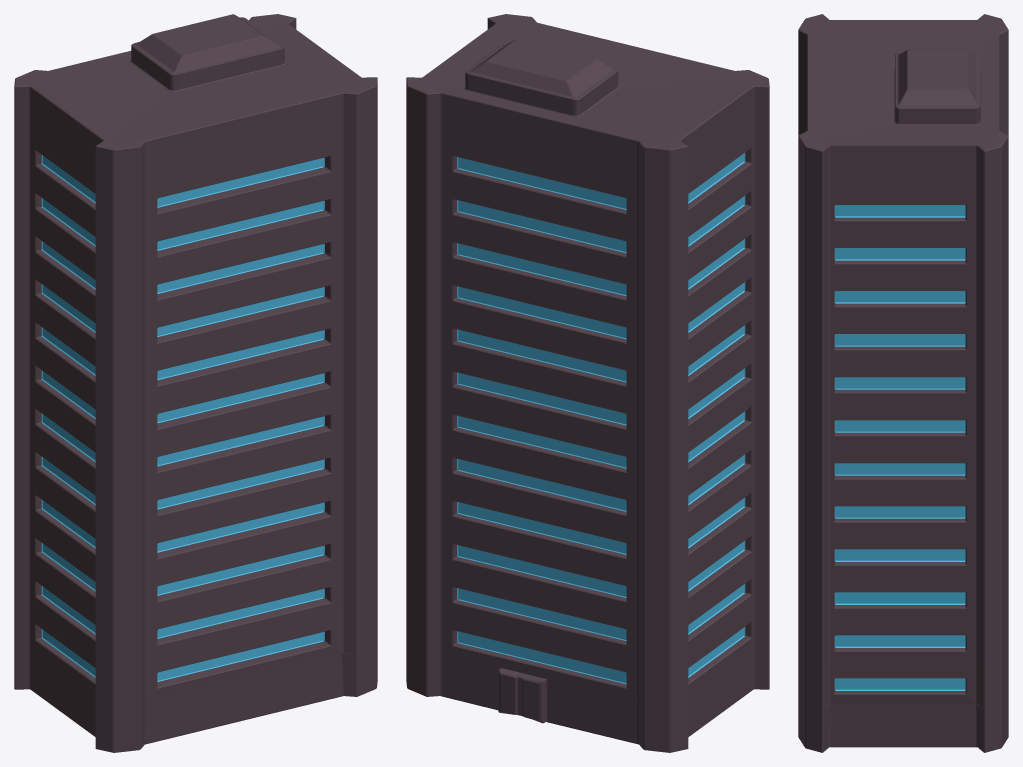
The model's file is buildings9.fbx.
3 views of the same model, side by side, from view 1: azimuth 30°, elevation 25°; view 2: azimuth 150°, elevation 25°; view 3: azimuth 270°, elevation 25° (orthographic).
Visible parts, largest first — view 1: 5.001; view 2: 5.001; view 3: 5.001.
Boxes of the visible parts, x1,y1,x2,y2 form: 5.001: (14, 14, 377, 752); 5.001: (406, 14, 769, 752); 5.001: (798, 14, 1008, 752).
Bounding box in the file's own units: 2904 × 6208 × 1879.
